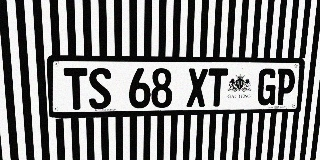6: (129, 68, 151, 108)
8: (151, 68, 173, 108)
G: (257, 68, 278, 105)
P: (275, 68, 296, 105)
S: (88, 68, 112, 109)
T: (64, 68, 88, 110), (207, 68, 228, 107)
X: (186, 68, 208, 107)
